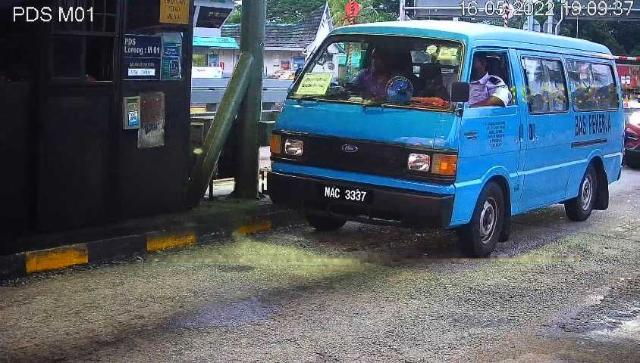License_Plate: (322, 184, 375, 209)
van: (272, 22, 627, 257)
